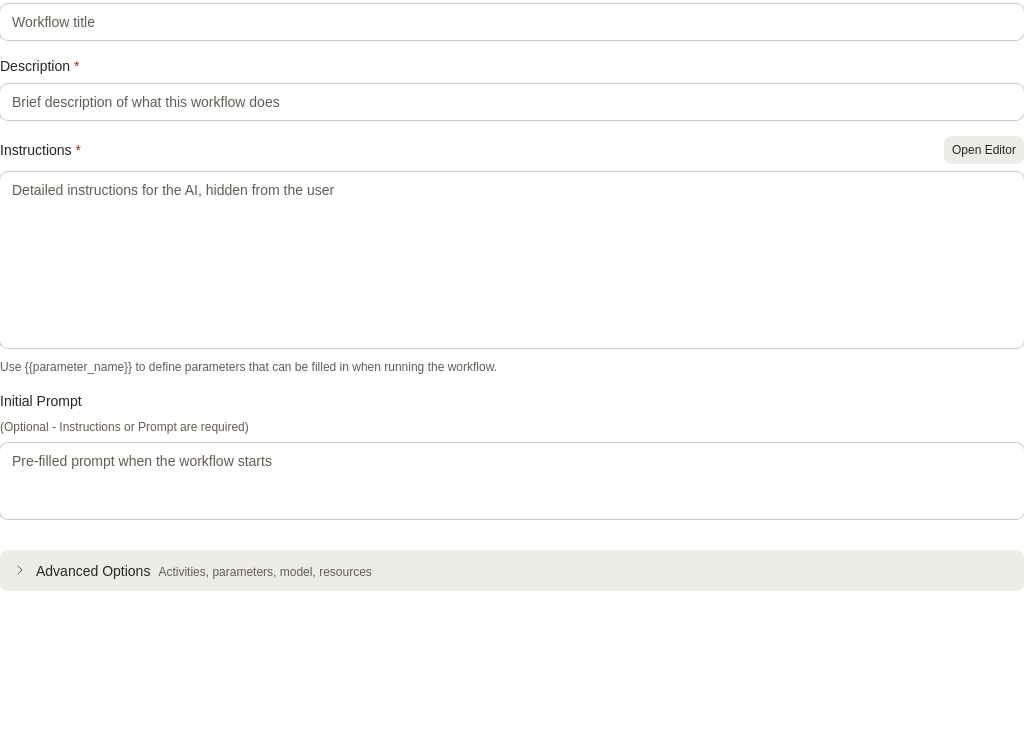
Test case: WorkflowFormFields › Parameter Management › shows parameter input section
Click the button "Advanced Options Activities, parameters, model, resources" at (93, 571), box [0,550,1023,591]
(page scrolled)
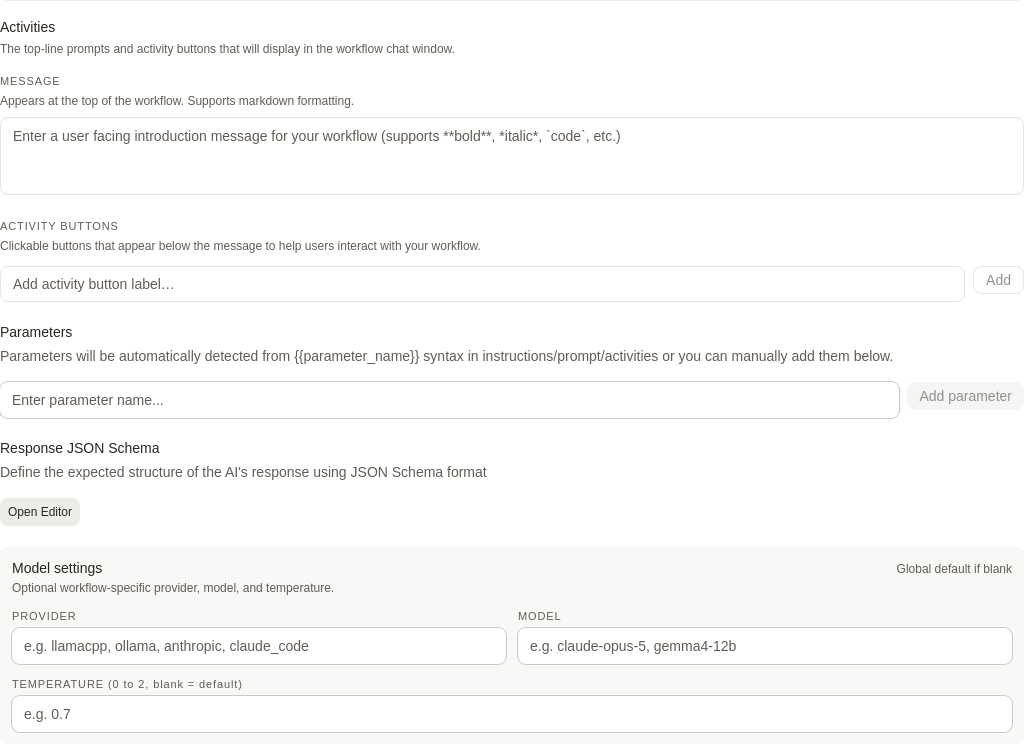
Now the field with placeholder "Enter parameter name..." is shown, box [0,382,899,418]
Now the button "Add parameter" is shown, box [907,382,1023,410]
